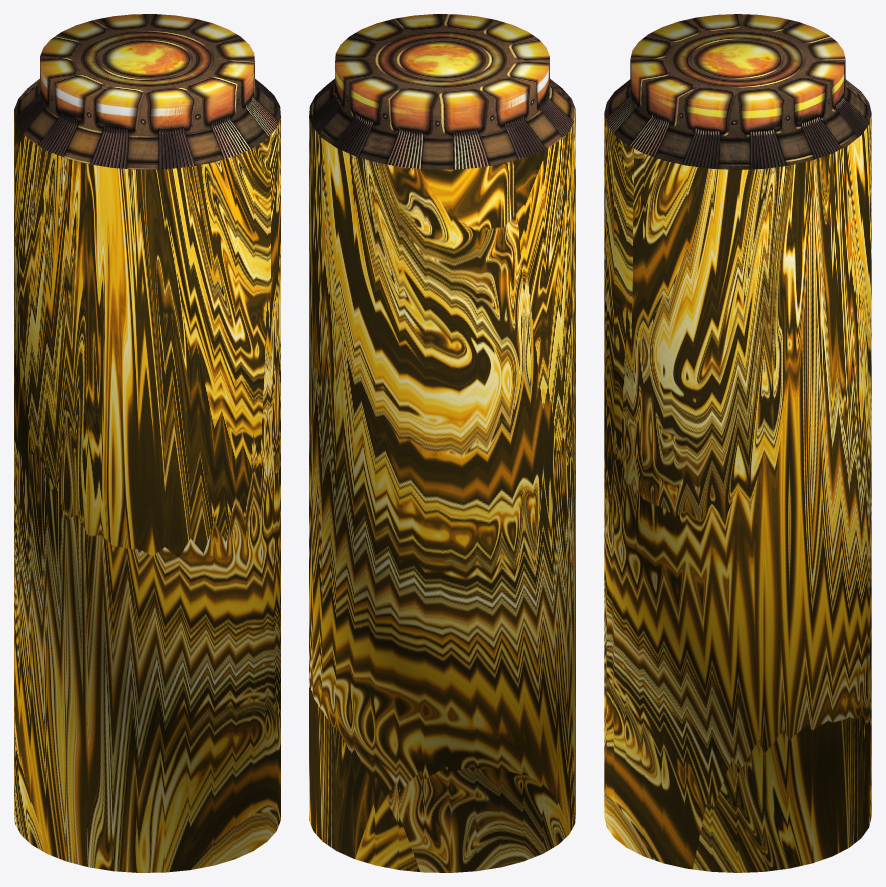
The model's file is Tower.fbx.
3 views of the same model, side by side, from view 1: azimuth 30°, elevation 25°; view 2: azimuth 150°, elevation 25°; view 3: azimuth 270°, elevation 25° (orthographic).
Visible parts, largest first — view 1: Cylinder; view 2: Cylinder; view 3: Cylinder.
Boxes of the visible parts, x1,y1,x2,y2 form: Cylinder: (14, 14, 280, 872); Cylinder: (309, 14, 575, 872); Cylinder: (604, 14, 871, 872).
Size of the model in its own units: 100 by 312 by 100.
